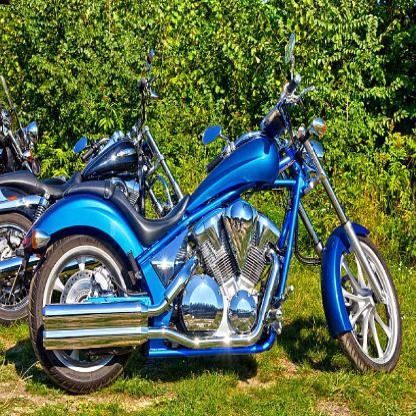Motorcycle: (25, 53, 404, 380), (3, 85, 154, 309)
